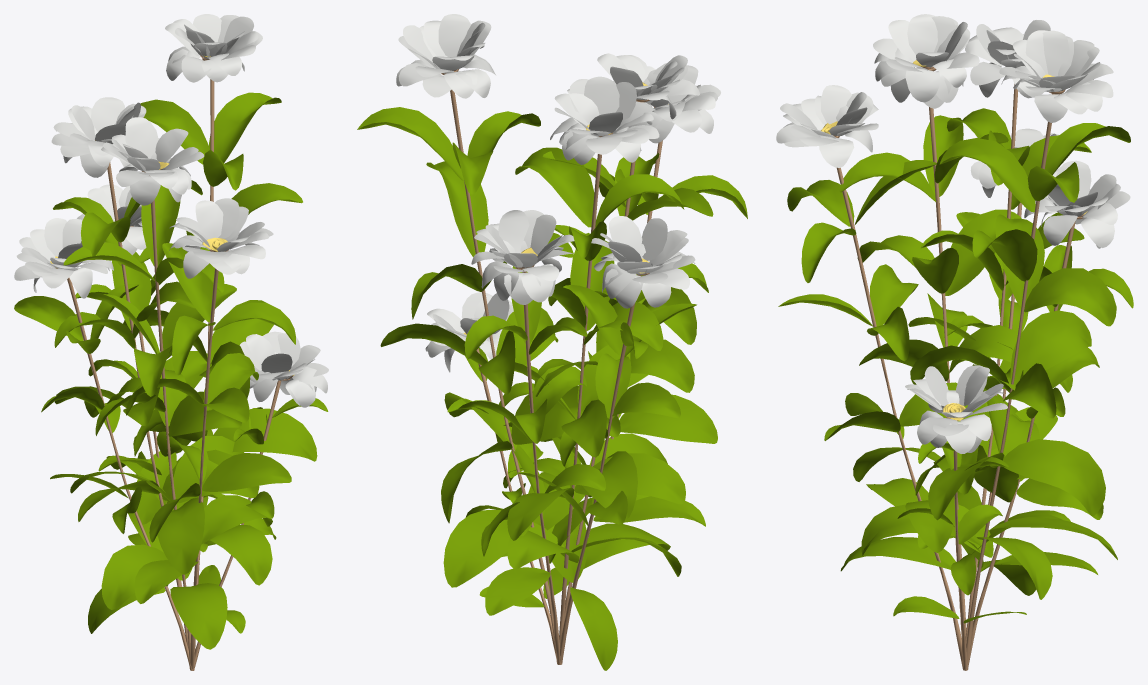
The model's file is asset.gltf.
3 views of the same model, side by side, from view 1: azimuth 30°, elevation 25°; view 2: azimuth 150°, elevation 25°; view 3: azimuth 270°, elevation 25° (orthographic). The views are drawn at different scales.
Visible parts, largest first — view 1: Jasmine_2; view 2: Jasmine_2; view 3: Jasmine_2.
Part boxes in pixels (x1,y1,x2,y2): Jasmine_2: (14,14,328,670); Jasmine_2: (357,14,747,670); Jasmine_2: (776,14,1133,670).
Size of the model in its own units: 1.44 by 2.94 by 1.44.
